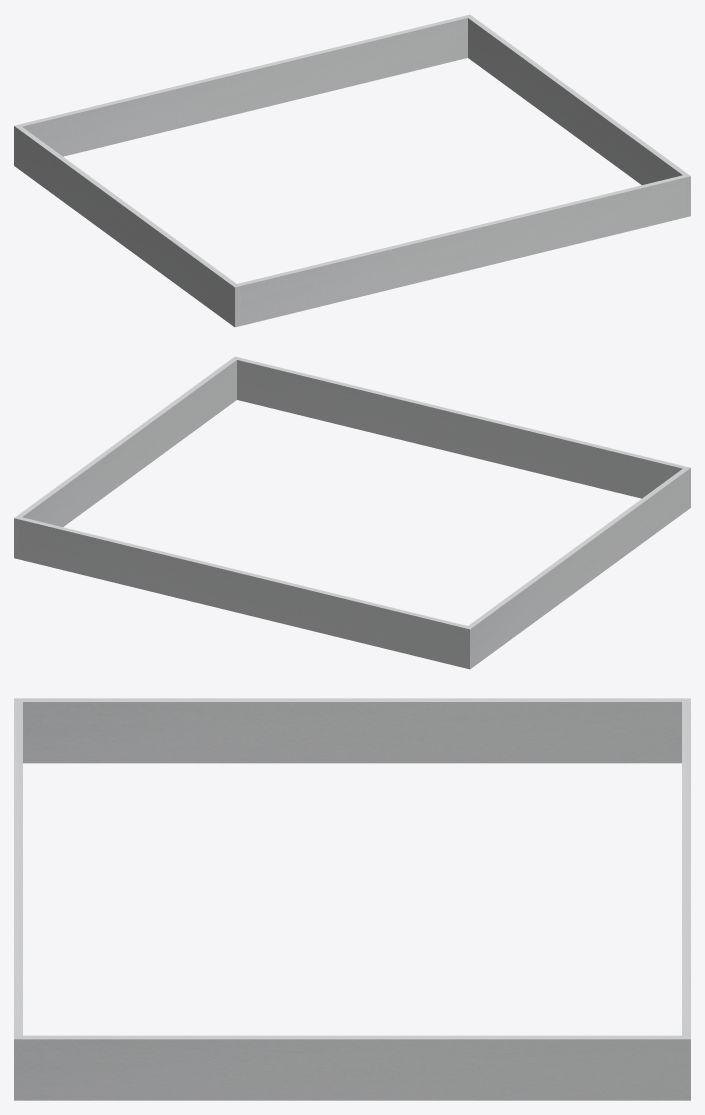
Rendered from walls.fbx.
3 renders of one model, top to bottom at view 1: azimuth 30°, elevation 25°; view 2: azimuth 150°, elevation 25°; view 3: azimuth 270°, elevation 25°, orthographic. The views are drawn at different scales.
Visible parts, largest first — view 1: Cube.002, Cube.001, Cube, Cube.003; view 2: Cube.001, Cube.002, Cube, Cube.003; view 3: Cube.003, Cube, Cube.001, Cube.002.
Boxes of the visible parts, bbox=[...] form: Cube.002: bbox=[237, 175, 686, 325]; Cube.001: bbox=[19, 15, 467, 156]; Cube: bbox=[14, 124, 239, 327]; Cube.003: bbox=[466, 14, 690, 217]; Cube.001: bbox=[19, 517, 467, 667]; Cube.002: bbox=[237, 357, 685, 498]; Cube: bbox=[465, 466, 690, 669]; Cube.003: bbox=[14, 356, 238, 559]; Cube.003: bbox=[14, 1035, 690, 1100]; Cube: bbox=[14, 698, 690, 763]; Cube.001: bbox=[682, 702, 690, 1035]; Cube.002: bbox=[14, 702, 22, 1035].
Size of the model in its own units: 3576 by 300 by 3000.
1 material, 1 textured.
